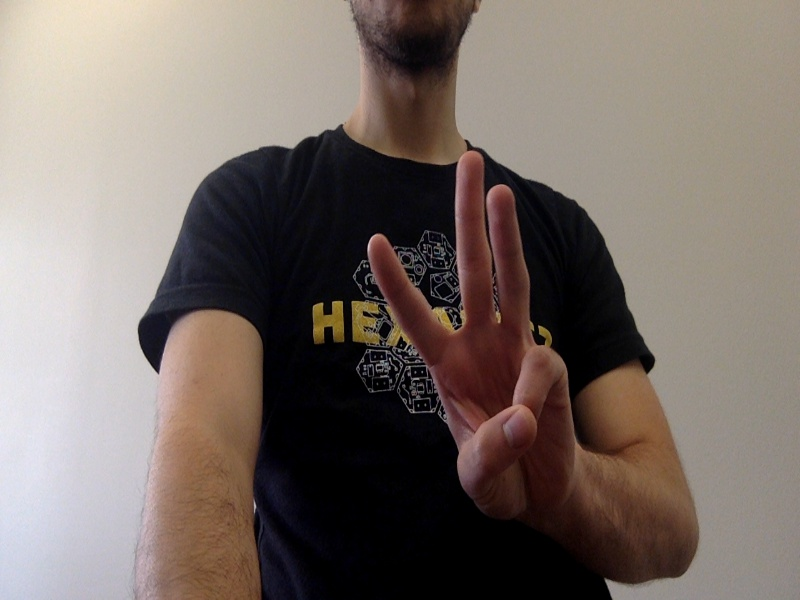3-hand: (367, 152, 576, 515)
